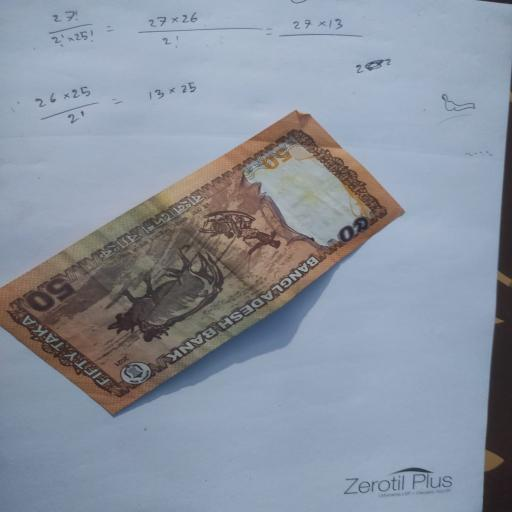50taka: (4, 112, 408, 420)
